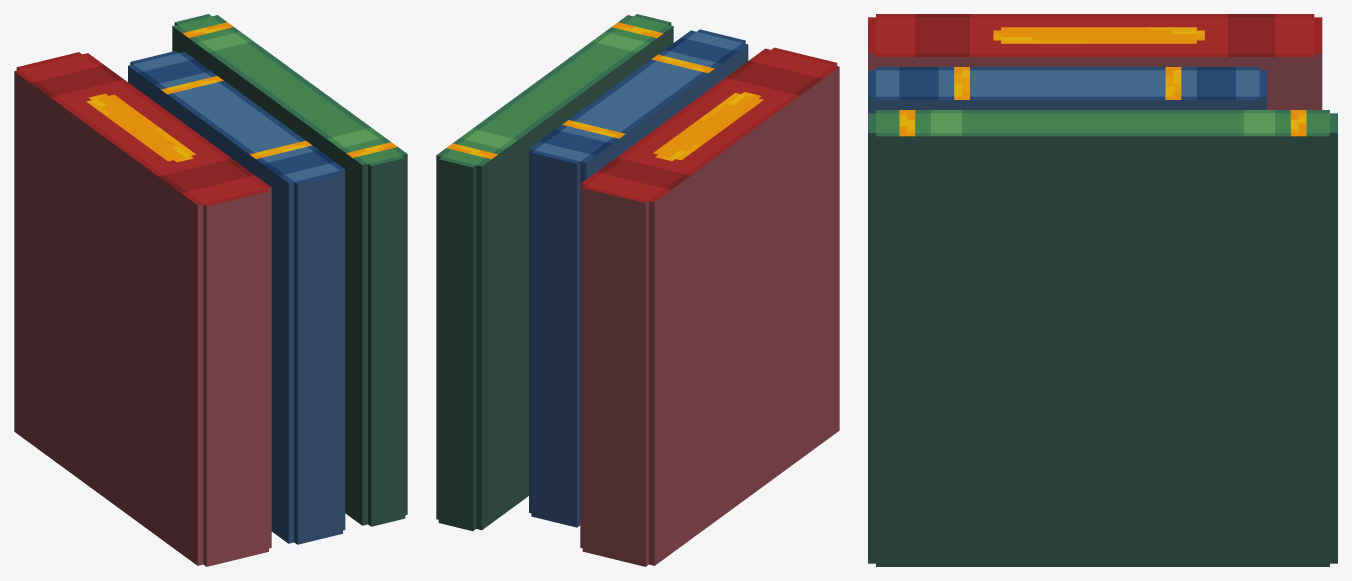
The model's file is book3.glb.
3 renders of one model, left to right at view 1: azimuth 30°, elevation 25°; view 2: azimuth 150°, elevation 25°; view 3: azimuth 270°, elevation 25°, orthographic. The views are drawn at different scales.
Parts seen in each view (by area): view 1: book_spines; view 2: book_spines; view 3: book_spines.
Boxes of the visible parts, x1,y1,x2,y2 form: book_spines: (14, 14, 407, 566); book_spines: (436, 14, 839, 566); book_spines: (868, 14, 1337, 566).
Bounding box in the file's own units: 2.31 × 3.79 × 3.75.
Materials: 4 (1 with a texture image).
